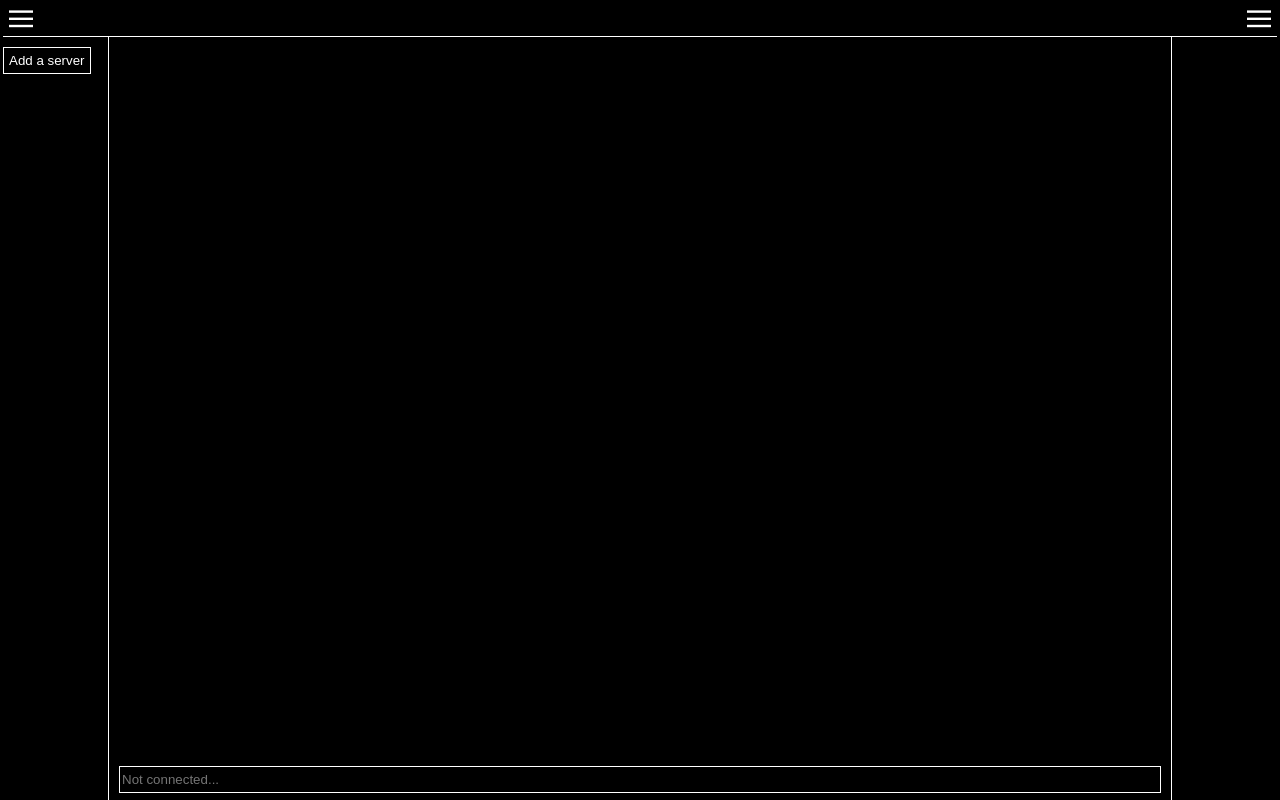
Scenario: Add Server › can dismiss with ESC
Click the button with test id "add-server": (47, 61) x1=3 y1=47 x2=91 y2=74
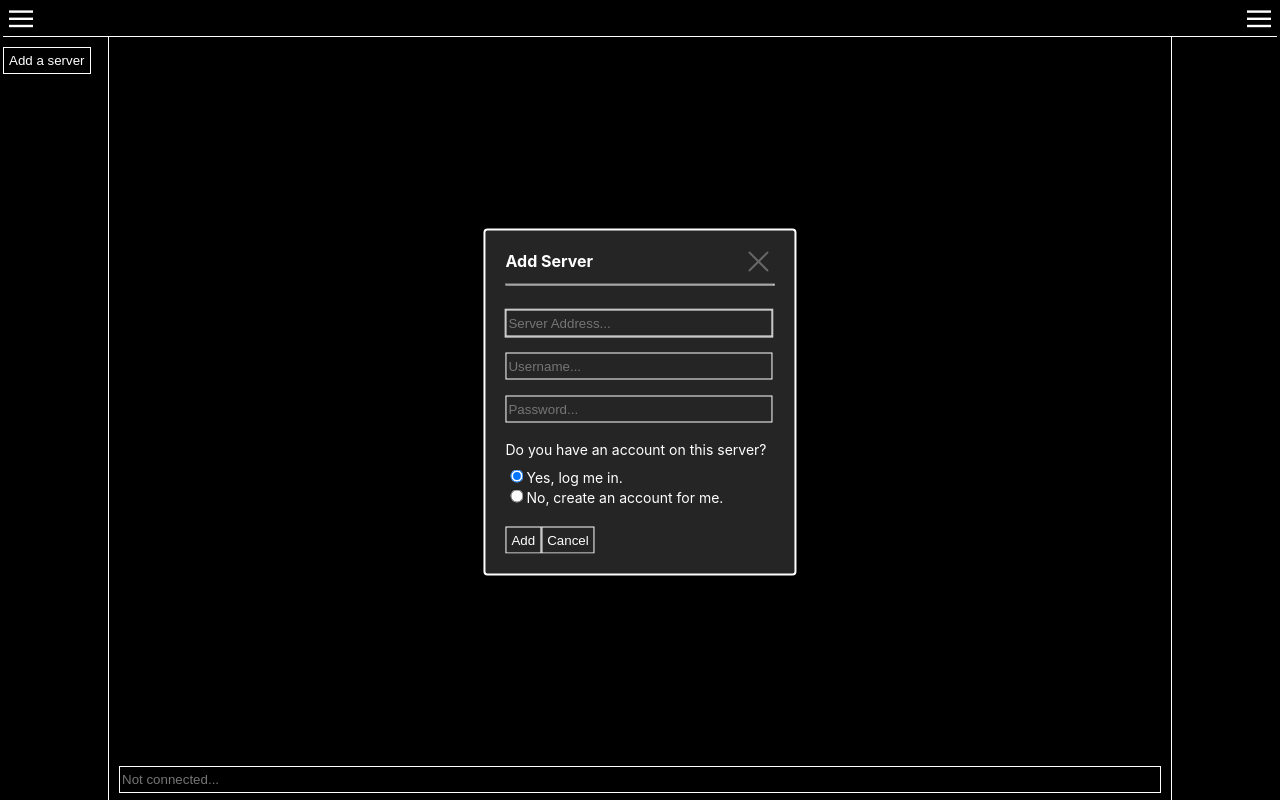
Result: the list with class "server-form" is shown at x1=506 y1=301 x2=775 y2=506
Press Esc in the form, box x1=506 y1=301 x2=775 y2=553
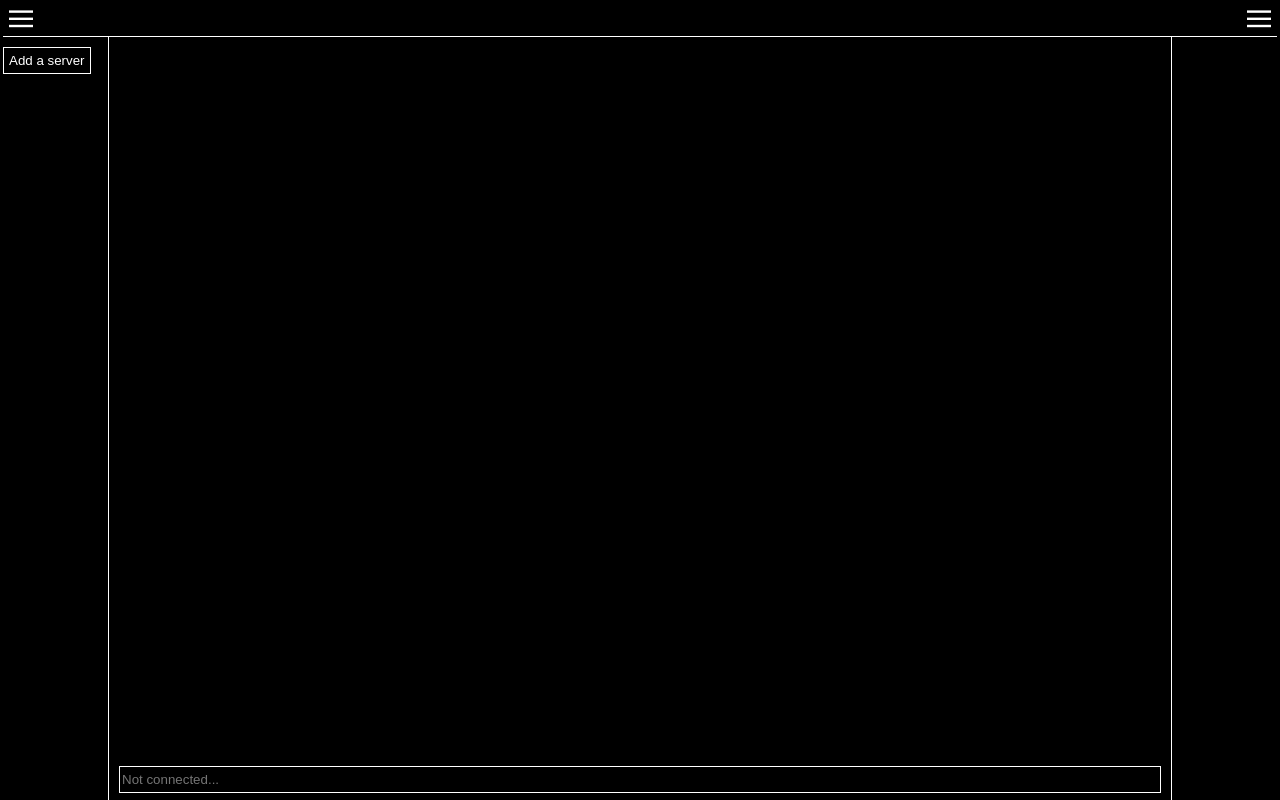
Expected: the field with class "entrybox" is disabled, x1=119 y1=766 x2=1161 y2=793
Result: the list with class "server-form" is gone
